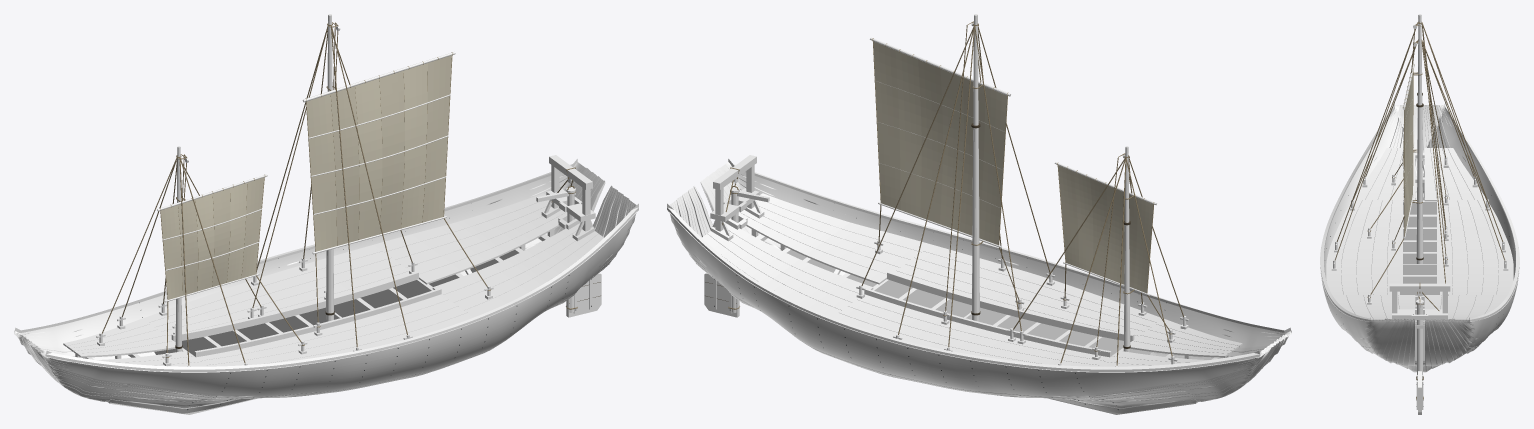
Rendered from quanzhou_complete.glb.
3 renders of one model, left to right at view 1: azimuth 30°, elevation 25°; view 2: azimuth 150°, elevation 25°; view 3: azimuth 270°, elevation 25°, orthographic. The views are drawn at different scales.
Visible parts, largest first — view 1: main light linen lug sail, fore light linen lug sail, Continuous gunwale cap -1, Third 25 mm sheathing -1 1 15, Third 25 mm sheathing -1 0 15, Third 25 mm sheathing -1 1 14, Third 25 mm sheathing -1 0 14, Deck plank panel 3 1 0, Deck plank panel 3 1 3, Third 25 mm sheathing -1 1 13, Deck plank panel 3 1 4, Deck plank panel 3 -1 3 (+46 smaller); view 2: main light linen lug sail, fore light linen lug sail, Continuous gunwale cap 1, Third 25 mm sheathing 1 1 15, Continuous gunwale cap -1, Third 25 mm sheathing 1 0 15, main tapered mast, Third 25 mm sheathing 1 1 14, Third 25 mm sheathing 1 0 14, Deck plank panel 3 -1 0, Deck plank panel 3 1 2, Third 25 mm sheathing 1 1 13 (+47 smaller); view 3: main tapered mast, main light linen lug sail, Continuous gunwale cap -1, Continuous gunwale cap 1, Deck plank panel 1 -1 3, Deck plank panel 1 1 3, Deck plank panel 2 -1 3, Deck plank panel 2 1 3, Deck plank panel 1 1 2, Deck plank panel 2 1 2, Deck plank panel 1 1 1, Deck plank panel 1 -1 1 (+83 smaller).
Part boxes in pixels (x1=…): main light linen lug sail: x1=306, y1=55, x2=451, y2=251; fore light linen lug sail: x1=161, y1=177, x2=264, y2=299; Continuous gunwale cap -1: x1=45, y1=203, x2=638, y2=371; Third 25 mm sheathing -1 1 15: x1=378, y1=210, x2=638, y2=359; Third 25 mm sheathing -1 0 15: x1=44, y1=351, x2=379, y2=377; Third 25 mm sheathing -1 1 14: x1=377, y1=218, x2=634, y2=366; Third 25 mm sheathing -1 0 14: x1=43, y1=355, x2=378, y2=382; Deck plank panel 3 1 0: x1=419, y1=212, x2=567, y2=284; Deck plank panel 3 1 3: x1=385, y1=200, x2=549, y2=259; Third 25 mm sheathing -1 1 13: x1=375, y1=222, x2=633, y2=373; Deck plank panel 3 1 4: x1=374, y1=193, x2=545, y2=252; Deck plank panel 3 -1 3: x1=464, y1=234, x2=603, y2=317; main light linen lug sail: x1=873, y1=41, x2=1007, y2=244; fore light linen lug sail: x1=1058, y1=165, x2=1153, y2=292; Continuous gunwale cap 1: x1=667, y1=203, x2=1260, y2=371; Third 25 mm sheathing 1 1 15: x1=667, y1=210, x2=927, y2=359; Continuous gunwale cap -1: x1=728, y1=159, x2=1291, y2=332; Third 25 mm sheathing 1 0 15: x1=926, y1=351, x2=1261, y2=377; main tapered mast: x1=972, y1=14, x2=979, y2=321; Third 25 mm sheathing 1 1 14: x1=671, y1=218, x2=928, y2=366; Third 25 mm sheathing 1 0 14: x1=927, y1=355, x2=1262, y2=382; Deck plank panel 3 -1 0: x1=738, y1=212, x2=886, y2=284; Deck plank panel 3 1 2: x1=707, y1=231, x2=851, y2=310; Third 25 mm sheathing 1 1 13: x1=672, y1=222, x2=930, y2=373; main tapered mast: x1=1416, y1=14, x2=1423, y2=263; main light linen lug sail: x1=1403, y1=72, x2=1413, y2=234; Continuous gunwale cap -1: x1=1320, y1=104, x2=1394, y2=321; Continuous gunwale cap 1: x1=1445, y1=104, x2=1519, y2=321; Deck plank panel 1 -1 3: x1=1343, y1=200, x2=1372, y2=251; Deck plank panel 1 1 3: x1=1467, y1=200, x2=1496, y2=251; Deck plank panel 2 -1 3: x1=1341, y1=251, x2=1358, y2=295; Deck plank panel 2 1 3: x1=1481, y1=251, x2=1498, y2=295; Deck plank panel 1 1 2: x1=1457, y1=200, x2=1481, y2=251; Deck plank panel 2 1 2: x1=1467, y1=251, x2=1483, y2=294; Deck plank panel 1 1 1: x1=1447, y1=200, x2=1466, y2=251; Deck plank panel 1 -1 1: x1=1373, y1=200, x2=1392, y2=251.
Size of the model in its own units: 2.8 by 1.69 by 1.03.
